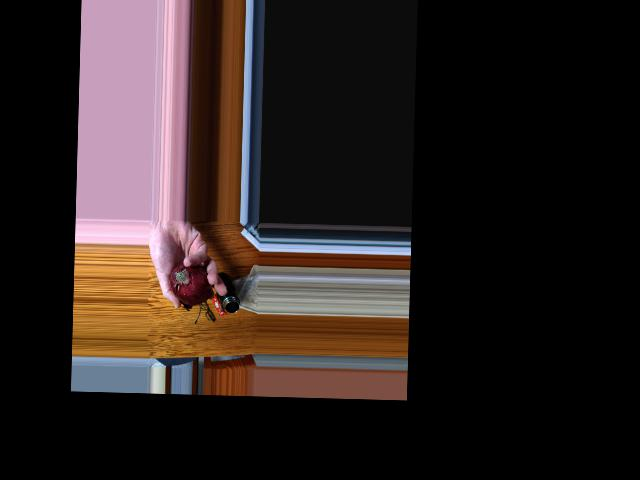onion: (170, 262, 209, 305)
